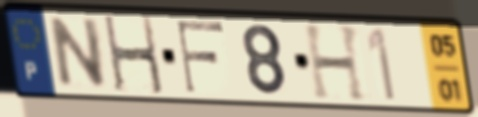1: (365, 25, 399, 104)
8: (240, 22, 290, 98)
F: (174, 19, 227, 96)
H: (301, 23, 371, 105), (100, 13, 168, 97)
N: (48, 14, 109, 90)
